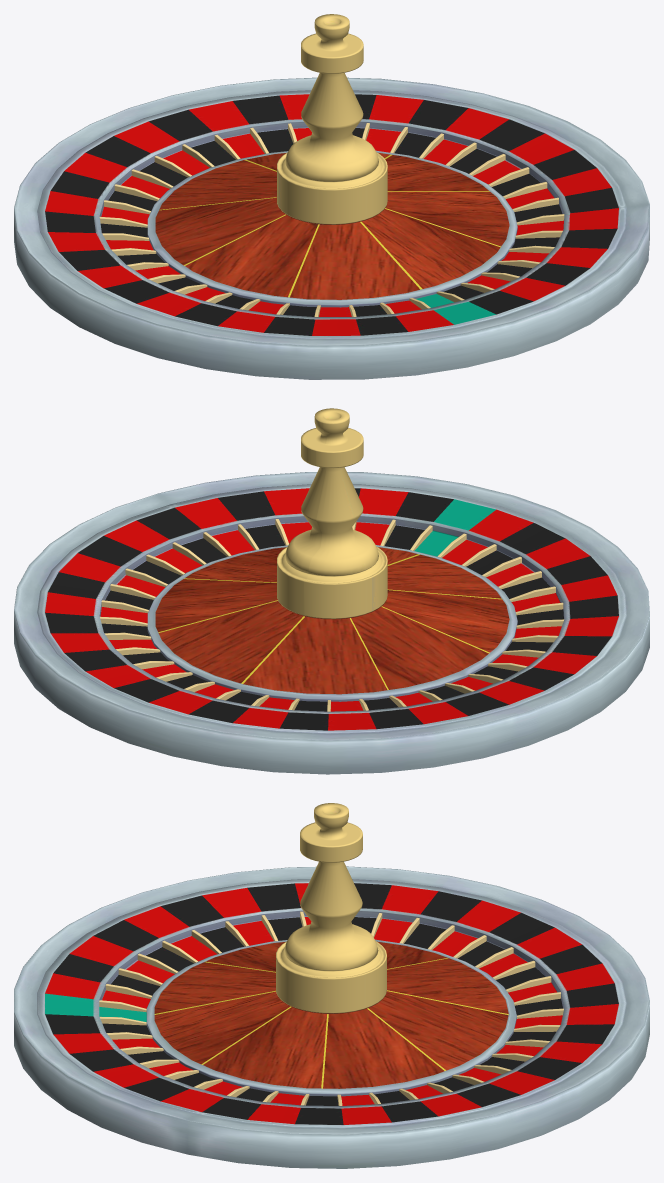
The model's file is RouletteWheel.fbx.
The picture shows the model from 3 angles, top to bottom: view 1: azimuth 30°, elevation 25°; view 2: azimuth 150°, elevation 25°; view 3: azimuth 270°, elevation 25°; orthographic projection.
Parts seen in each view (by area): view 1: Cylinder.002; view 2: Cylinder.002; view 3: Cylinder.002.
Boxes of the visible parts, box(x1,y1,x2,y2) form: Cylinder.002: box(14, 14, 649, 379); Cylinder.002: box(14, 408, 649, 774); Cylinder.002: box(14, 803, 649, 1168).
Size of the model in its own units: 660 by 257 by 660.
